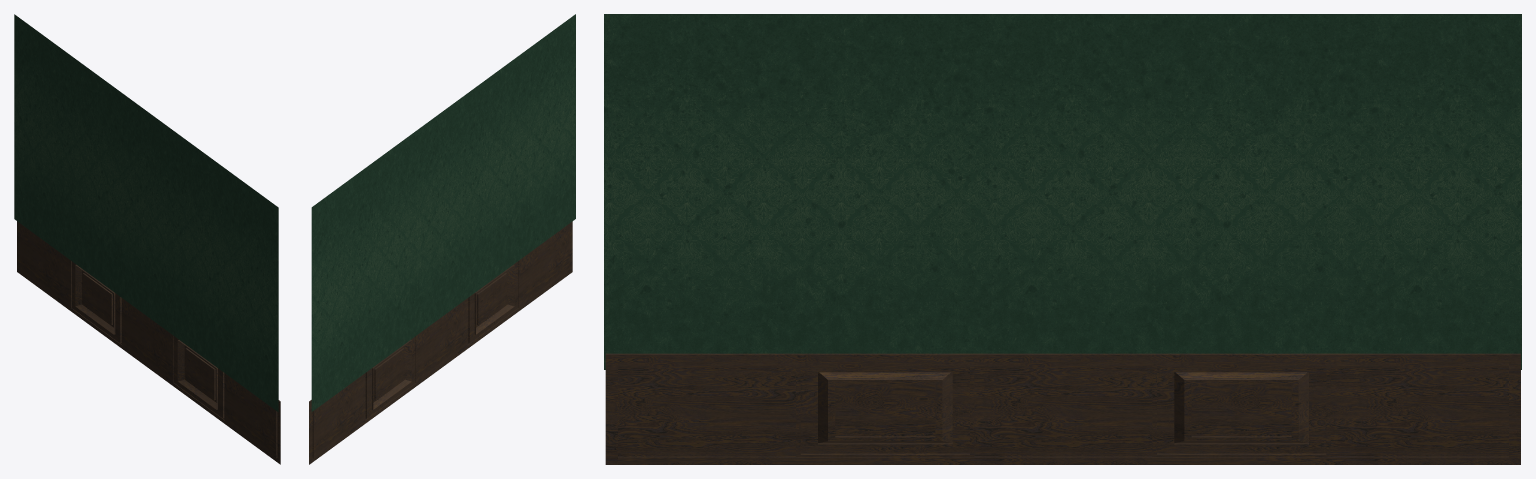
File: victorian_wall.glb
The picture shows the model from 3 angles, left to right: view 1: azimuth 30°, elevation 25°; view 2: azimuth 150°, elevation 25°; view 3: azimuth 270°, elevation 25°; orthographic projection. The views are drawn at different scales.
Visible parts, largest first — view 1: Wall_Wallpaper, Wall_TrimSheet; view 2: Wall_Wallpaper, Wall_TrimSheet; view 3: Wall_Wallpaper, Wall_TrimSheet.
Part boxes in pixels (left/top/right/bottom): Wall_Wallpaper: left=14, top=14, right=278, bottom=412; Wall_TrimSheet: left=17, top=221, right=280, bottom=464; Wall_Wallpaper: left=311, top=14, right=575, bottom=411; Wall_TrimSheet: left=309, top=221, right=572, bottom=464; Wall_Wallpaper: left=604, top=14, right=1521, bottom=369; Wall_TrimSheet: left=605, top=353, right=1520, bottom=464.
Size of the model in its own units: 9 by 564 by 1045.
2 materials, 2 textured.
